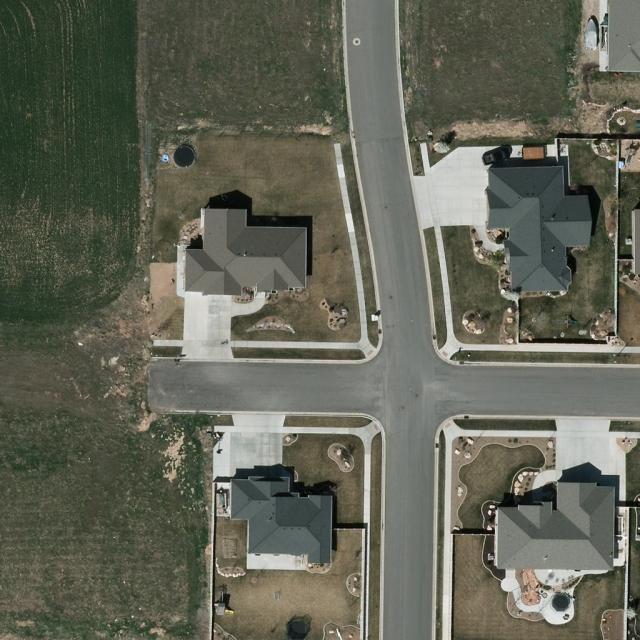vehicle: (482, 146, 512, 166)
